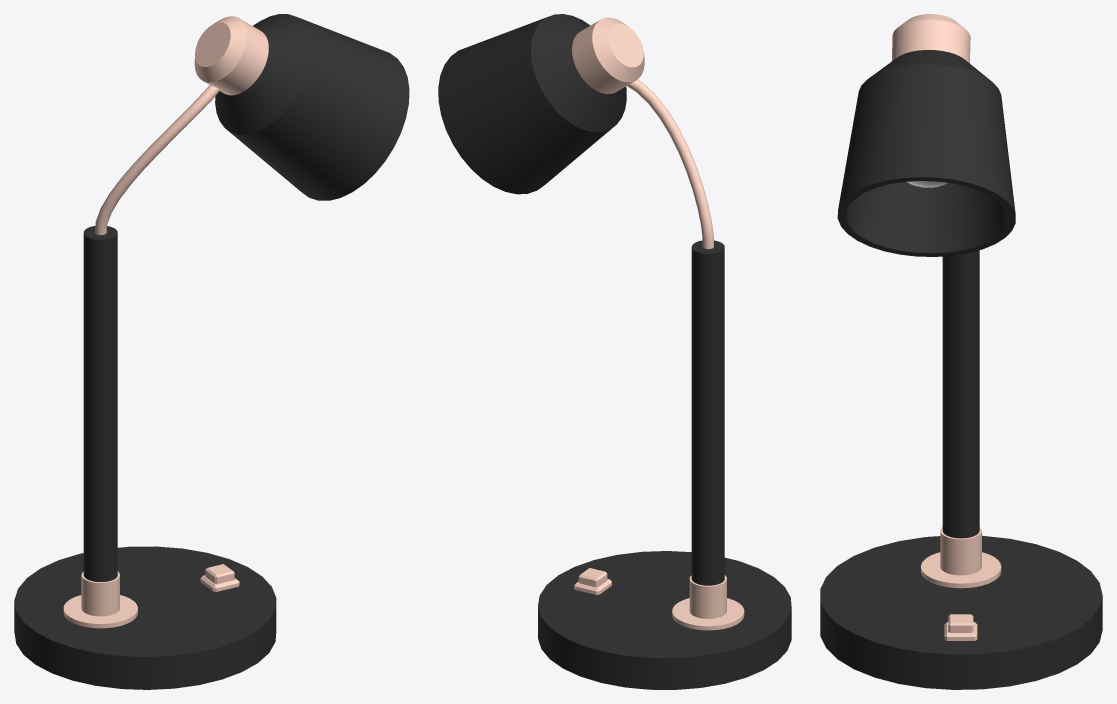
Rendered from Lamp.fbx.
3 renders of one model, left to right at view 1: azimuth 30°, elevation 25°; view 2: azimuth 150°, elevation 25°; view 3: azimuth 270°, elevation 25°, orthographic. The views are drawn at different scales.
Visible parts, largest first — view 1: Lamp; view 2: Lamp; view 3: Lamp.
Boxes of the visible parts, x1=… form: Lamp: x1=14, y1=14, x2=409, y2=689; Lamp: x1=438, y1=14, x2=791, y2=689; Lamp: x1=820, y1=14, x2=1102, y2=689.
Size of the model in its own units: 601 by 1006 by 394.
